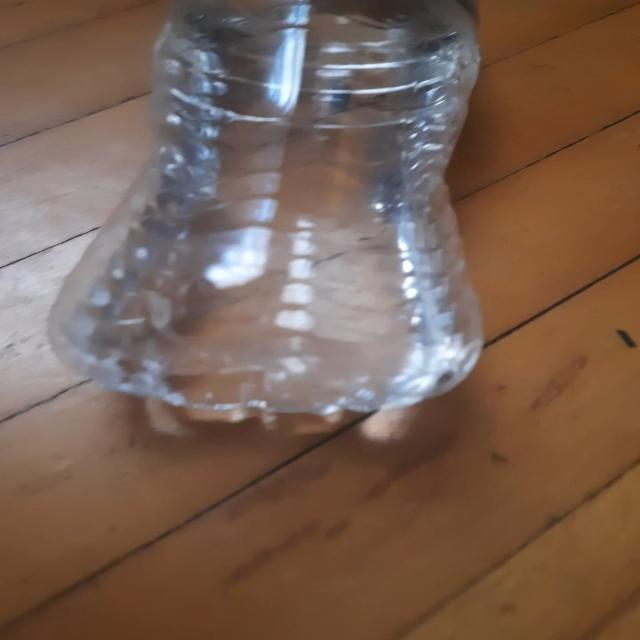Plastic: (46, 0, 485, 438)
